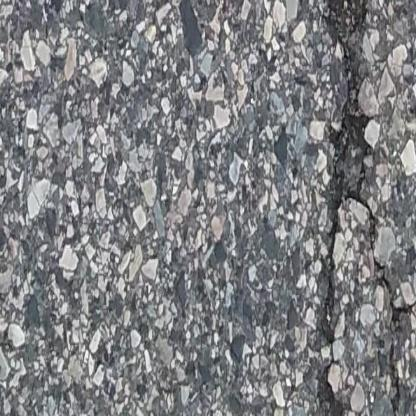Cracks: (319, 0, 400, 405)
